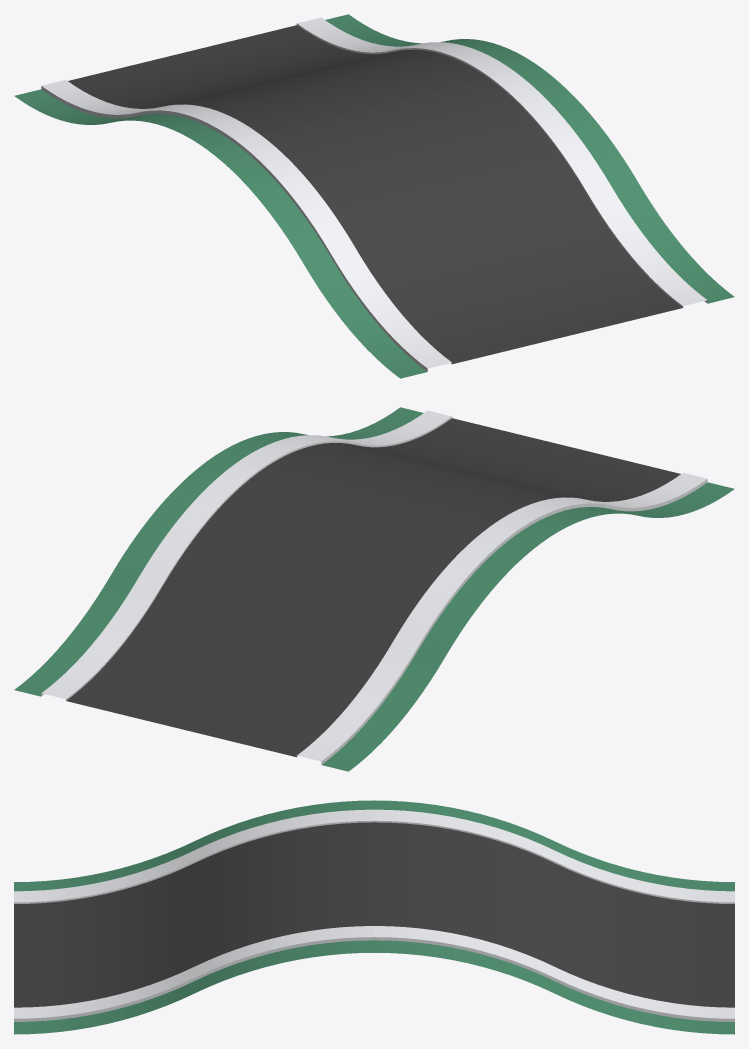
Rendered from roadStraightLongBump.obj.
The picture shows the model from 3 angles, top to bottom: view 1: azimuth 30°, elevation 25°; view 2: azimuth 150°, elevation 25°; view 3: azimuth 270°, elevation 25°; orthographic projection. The views are drawn at different scales.
Parts seen in each view (by area): view 1: roadStraightLongBump; view 2: roadStraightLongBump; view 3: roadStraightLongBump.
Boxes of the visible parts, box(x1,y1,x2,y2) form: roadStraightLongBump: box(14, 14, 734, 378); roadStraightLongBump: box(14, 407, 734, 771); roadStraightLongBump: box(14, 800, 734, 1034).
Bounding box in the file's own units: 1 × 0.26 × 2.
